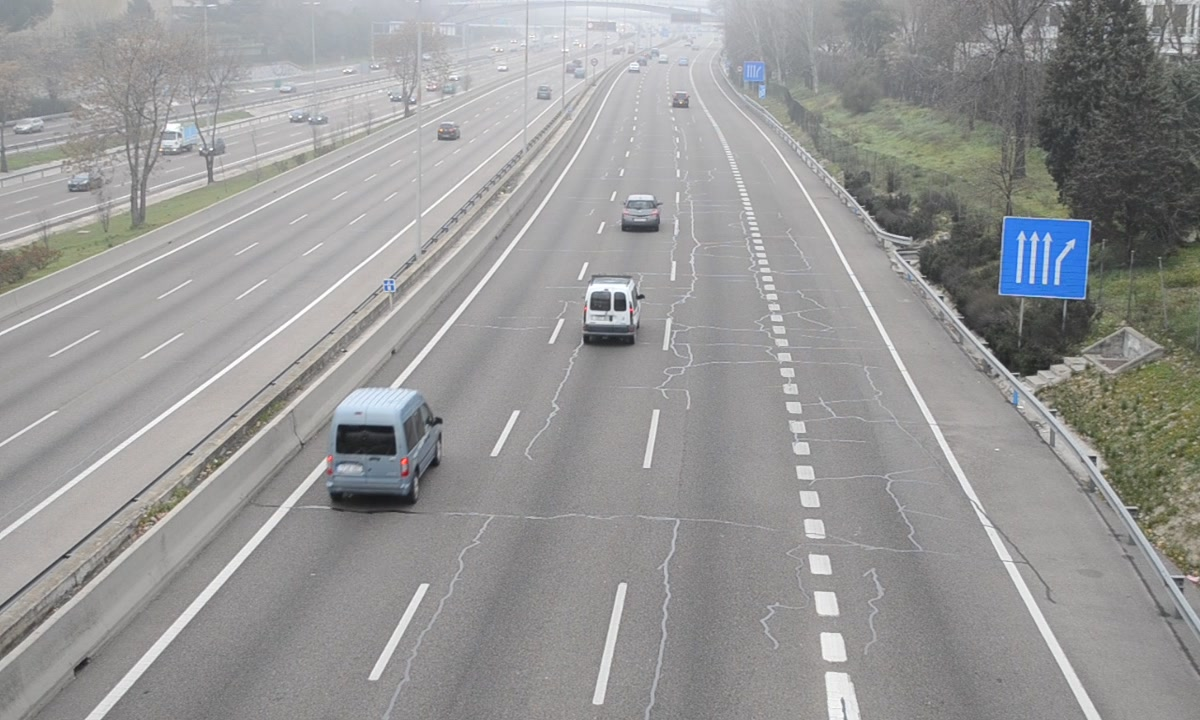car: (621, 193, 662, 232)
van: (329, 389, 443, 499), (582, 278, 641, 339)
